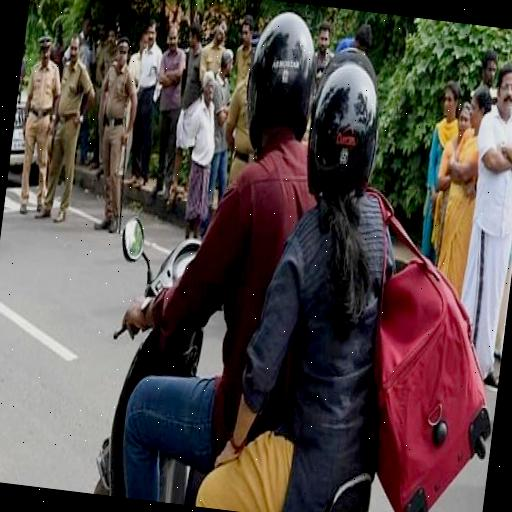helmet: (113, 0, 326, 499)
